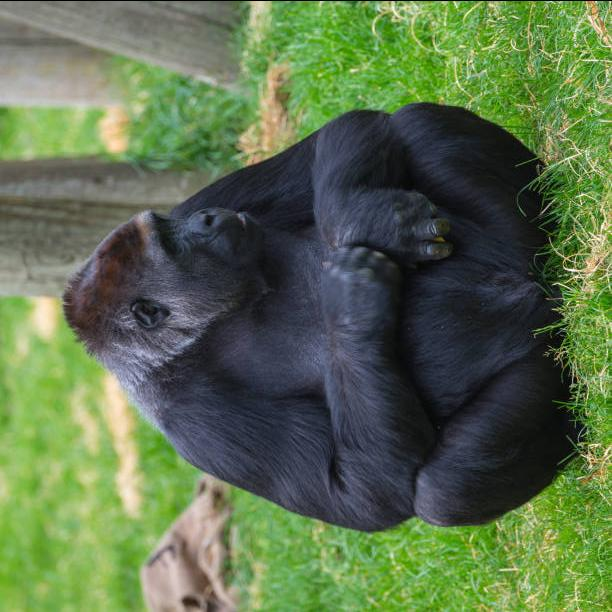gorille_Autres: (54, 0, 584, 547)
